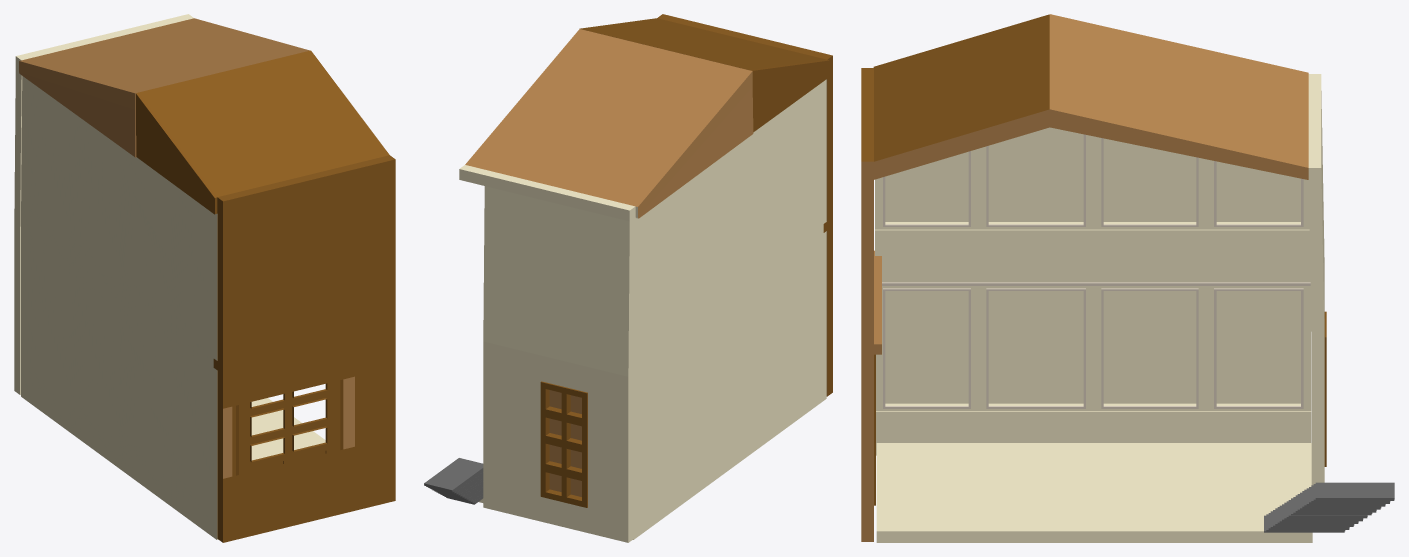
File: MyBooth_In_1.fbx
3 views of the same model, side by side, from view 1: azimuth 30°, elevation 25°; view 2: azimuth 150°, elevation 25°; view 3: azimuth 270°, elevation 25° (orthographic). The views are drawn at different scales.
Visible parts, largest first — view 1: Cube.005, Cube.004, Cube.003, Cube.006, Cube.002; view 2: Cube.006, Cube.004, Cube.003, Cube.005, Stair; view 3: Cube.004, Cube.003, Cube.002, Cube.006, Cube.005, Stair.
Boxes of the visible parts, x1,y1,x2,y2 form: Cube.005: (136,50,395,542); Cube.004: (21,233,217,539); Cube.003: (21,76,217,376); Cube.006: (14,14,309,394); Cube.002: (251,398,325,460); Cube.006: (459,29,753,542); Cube.004: (633,237,826,539); Cube.003: (634,79,826,377); Cube.005: (579,14,832,396); Stair: (424,458,483,504); Cube.004: (876,274,1311,455); Cube.003: (875,127,1310,273); Cube.002: (876,443,1312,542); Cube.006: (1049,14,1326,485); Cube.005: (861,14,1049,541); Stair: (1264,482,1394,532).
Size of the model in its own units: 20202 by 42240 by 47001.
